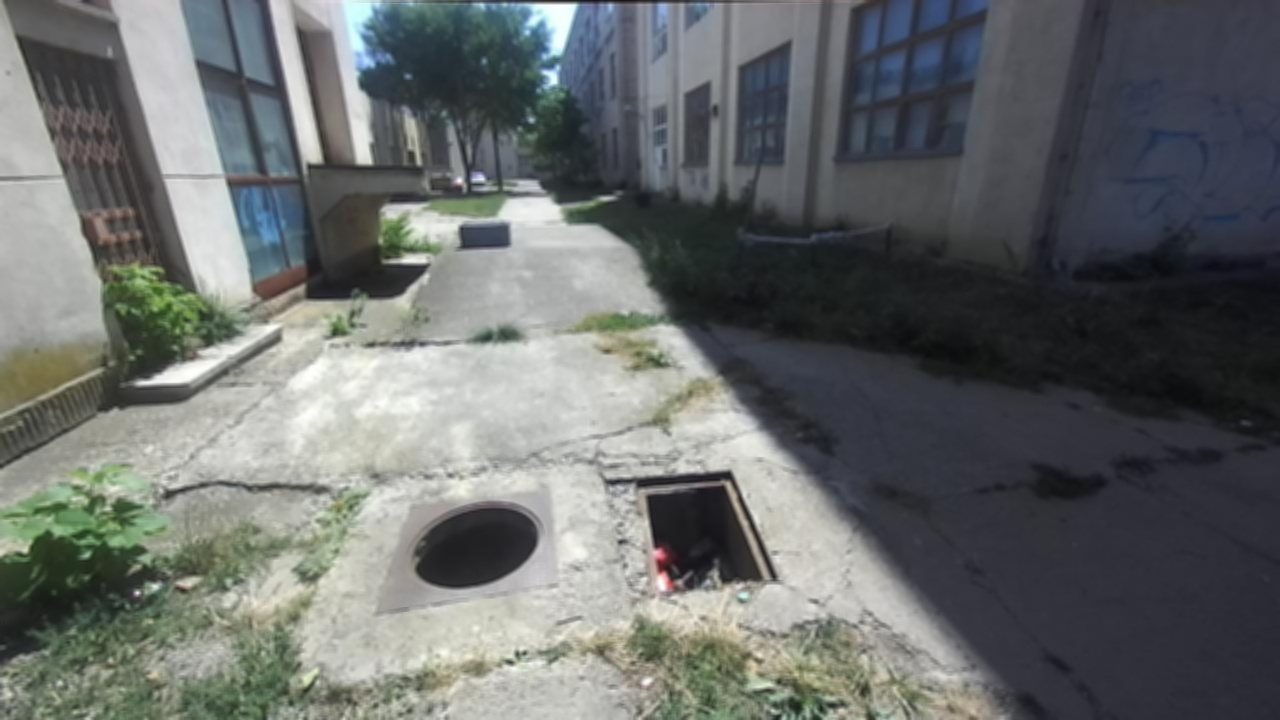drain: (628, 467, 787, 594), (395, 495, 551, 595)
